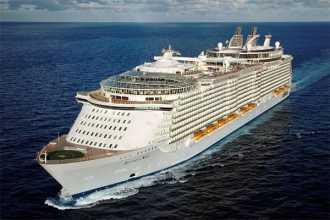youlun: (34, 23, 292, 197)
